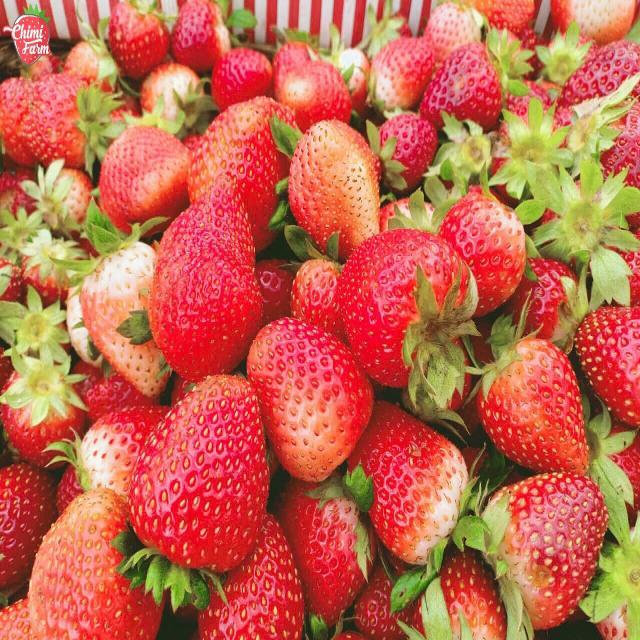Fruta sana: (315, 7, 636, 255), (7, 66, 166, 446), (284, 483, 634, 640), (131, 382, 270, 577), (148, 172, 265, 378), (341, 238, 485, 397), (248, 320, 372, 482), (27, 490, 156, 640), (190, 97, 305, 247), (98, 127, 190, 235)
